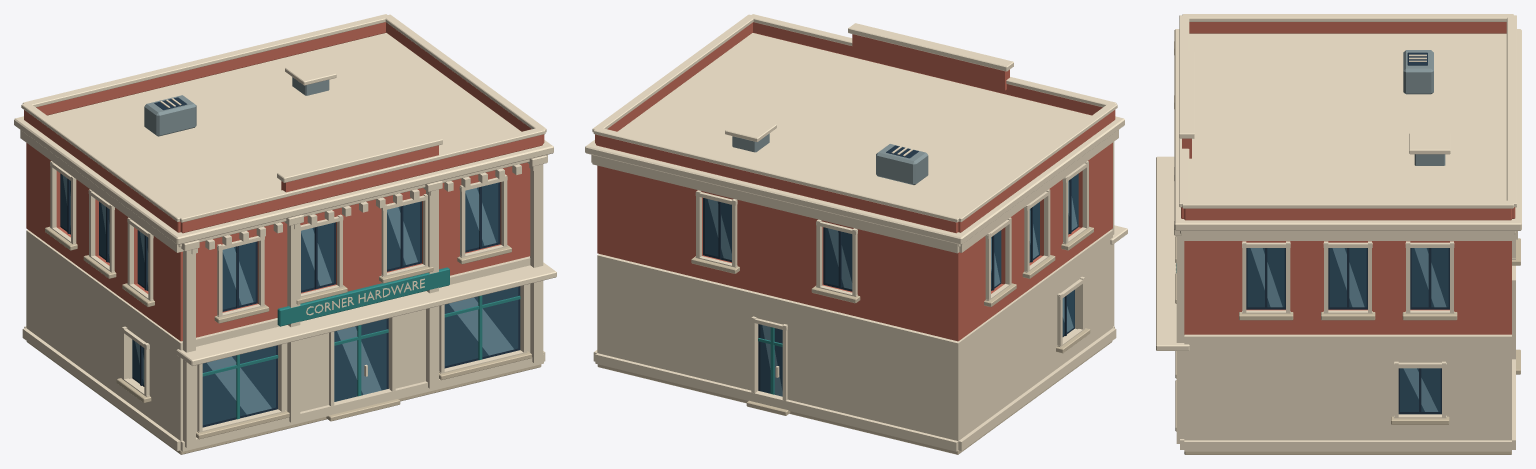
Rendered from corner_hardware.glb.
The picture shows the model from 3 angles, left to right: view 1: azimuth 30°, elevation 25°; view 2: azimuth 150°, elevation 25°; view 3: azimuth 270°, elevation 25°; orthographic projection. The views are drawn at different scales.
Visible parts, largest first — view 1: CornerHardware_StaticMesh; view 2: CornerHardware_StaticMesh; view 3: CornerHardware_StaticMesh.
Boxes of the visible parts, x1,y1,x2,y2 form: CornerHardware_StaticMesh: (14,14,556,454); CornerHardware_StaticMesh: (585,14,1127,454); CornerHardware_StaticMesh: (1156,14,1521,454).
Bounding box in the file's own units: 12.12 × 7.81 × 9.6.
